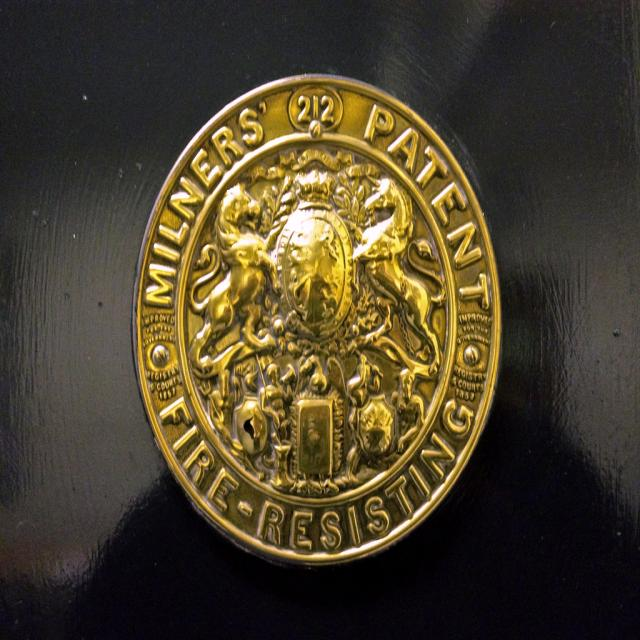Coin: (132, 70, 506, 566)
